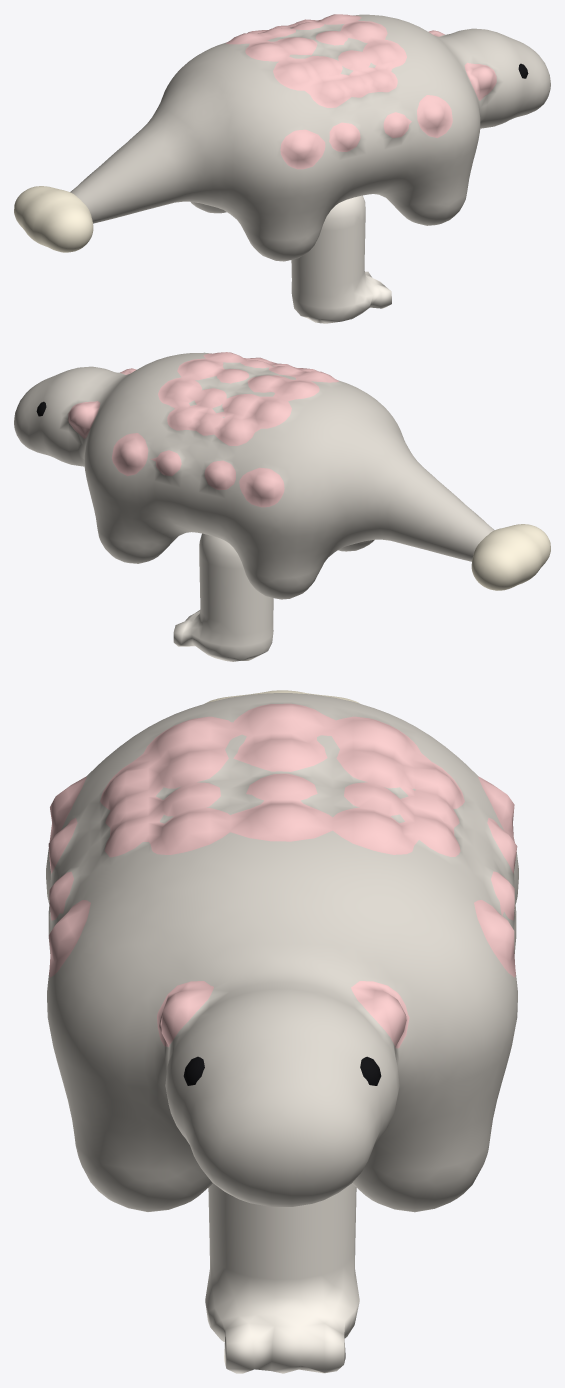
Rendered from ankylosaurus_adult.glb.
The picture shows the model from 3 angles, top to bottom: view 1: azimuth 30°, elevation 25°; view 2: azimuth 150°, elevation 25°; view 3: azimuth 270°, elevation 25°; orthographic projection. The views are drawn at different scales.
Visible parts, largest first — view 1: body, leg, horn; view 2: body, leg, horn; view 3: body, leg, eye.
Boxes of the visible parts, x1,y1,x2,y2 form: body: (70, 14, 550, 261); leg: (291, 195, 391, 323); horn: (14, 186, 93, 252); body: (14, 352, 494, 599); leg: (173, 533, 273, 661); horn: (471, 524, 550, 590); body: (46, 693, 518, 1212); leg: (205, 1183, 359, 1373); eye: (183, 1056, 381, 1085).
Size of the model in its own units: 3.46 by 1.8 by 1.37.
